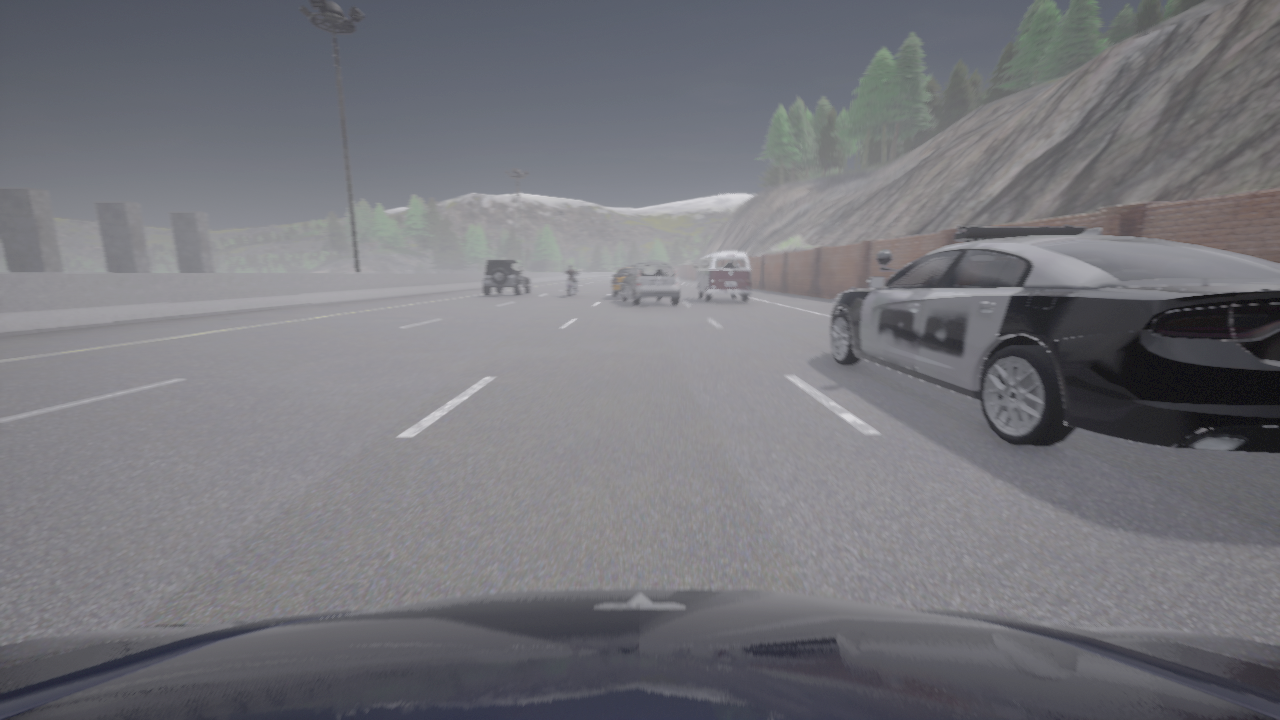cyclist: (0, 588, 1279, 719), (829, 225, 1279, 453), (694, 251, 751, 301), (621, 262, 680, 305), (482, 259, 531, 295), (612, 265, 633, 297), (565, 274, 577, 296)
